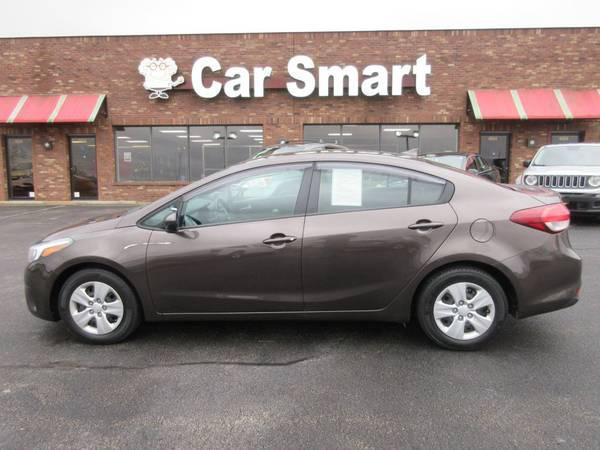Front_Bumper: (27, 261, 58, 322)
Front_Fender: (43, 209, 159, 321)
Front_Left_Door: (146, 220, 304, 321)
Front_Left_Window: (151, 159, 316, 235)
Left_Headlight: (29, 238, 74, 263)
Left_Taillight: (508, 202, 569, 234)
Rear_Bumper: (494, 228, 585, 318)
Rear_Fender: (433, 175, 559, 267)
Rear_Left_Door: (301, 206, 457, 325)
Rear_Left_Window: (304, 161, 453, 220)
Wheel: (420, 267, 510, 354), (56, 265, 136, 344)
